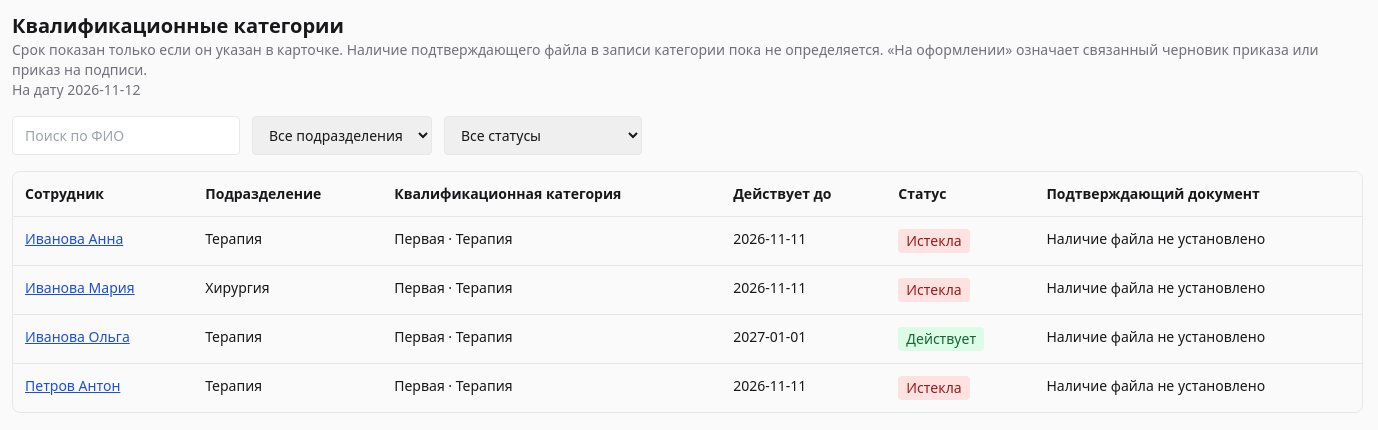
Scenario: PersonnelQualificationCategoriesReport › combines current department, FIO and category status filters
The image size is (1378, 430).
Check: the row with test id "qualification-category-employee-4" is shown, box [13,364,1362,412]
Type "Иванова" into the field labelled "Поиск по ФИО".
click(126, 136); type("Иванова")  # box [12,116,240,155]
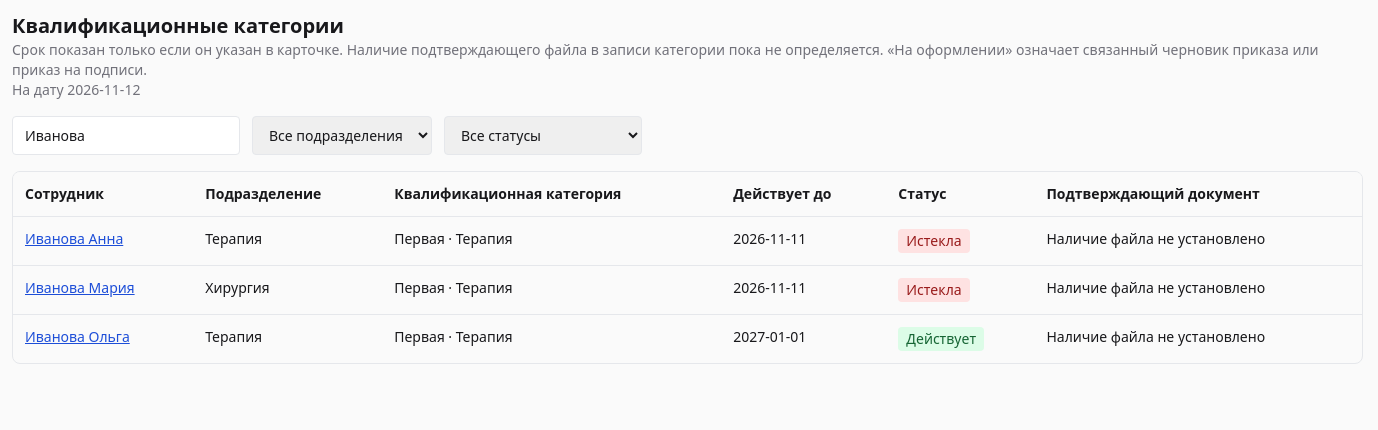
Select "Терапия" in the dropdown named "Подразделение" at [342, 136], box [252,116,432,155]
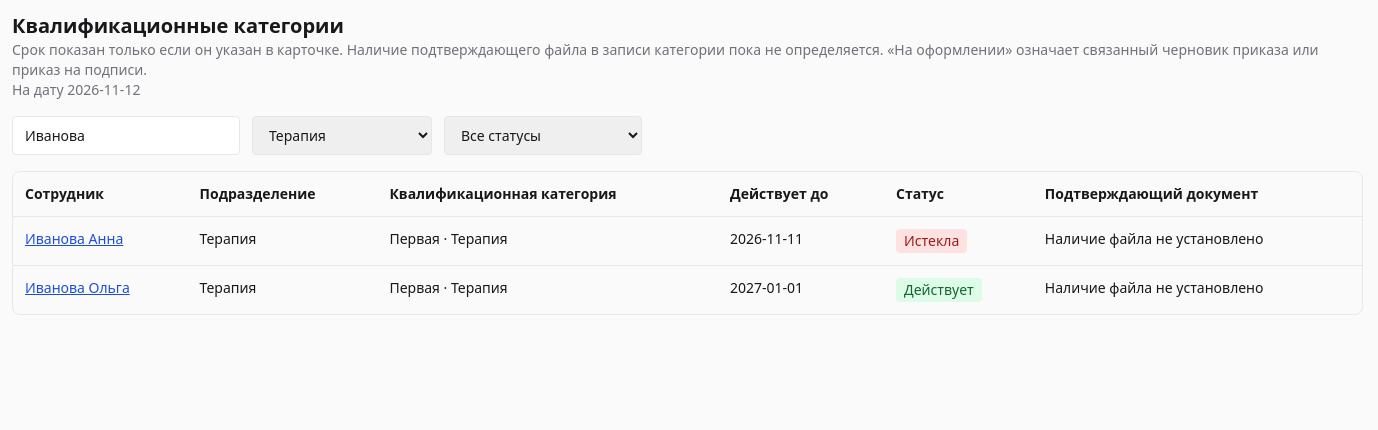
Select "Истекла" in the dropdown named "Статус категории" at [543, 136], box [444,116,642,155]
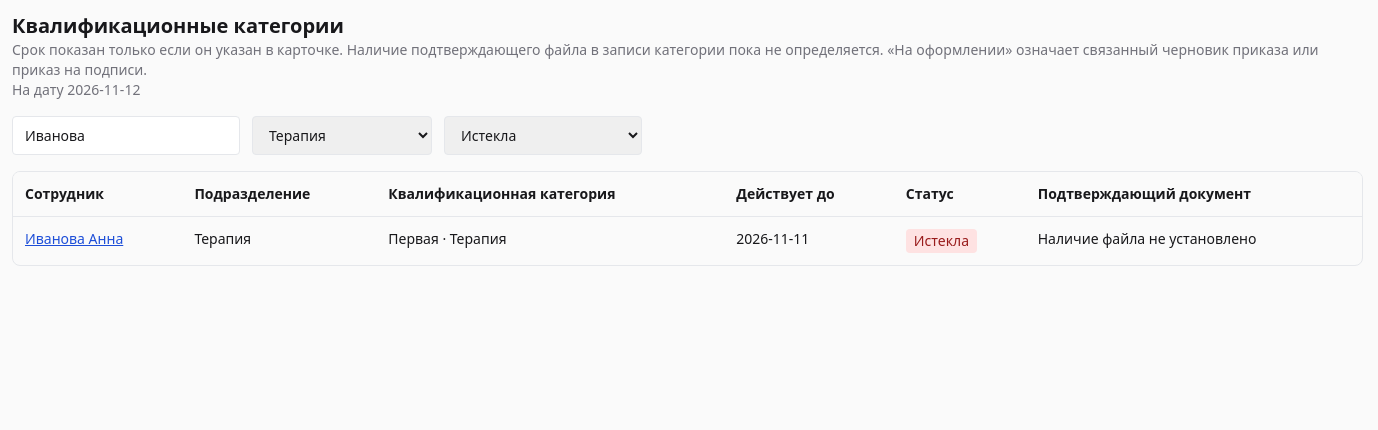
Check: the row with test id "qualification-category-employee-1" is shown, box [13,216,1362,265]
Check: the row with test id "qualification-category-employee-3" is gone
